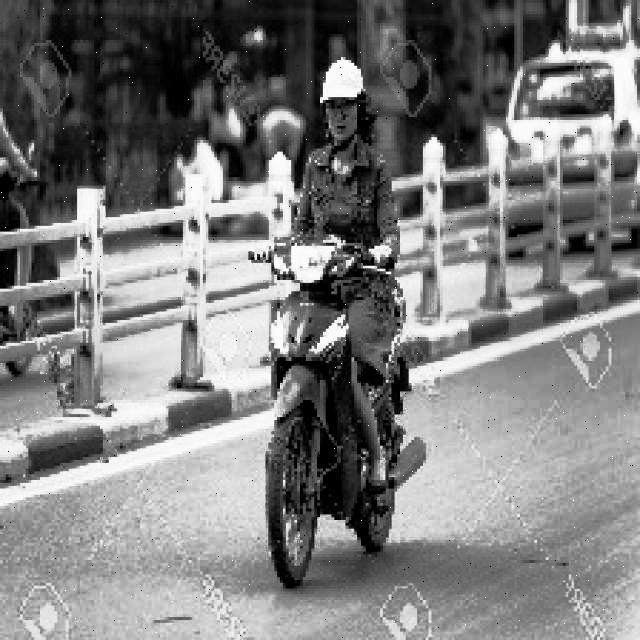Bike: (259, 226, 424, 580)
